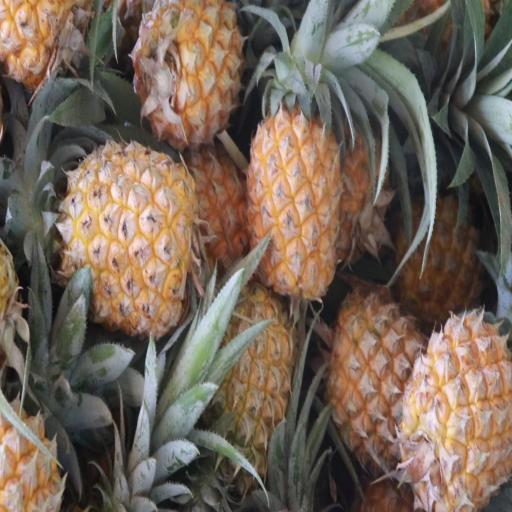------------------------------: (329, 299, 429, 475)
Pineapple - v8 v1: (66, 144, 193, 332), (403, 318, 512, 510), (248, 103, 344, 299), (134, 0, 242, 143), (212, 292, 296, 464), (400, 188, 486, 315)
